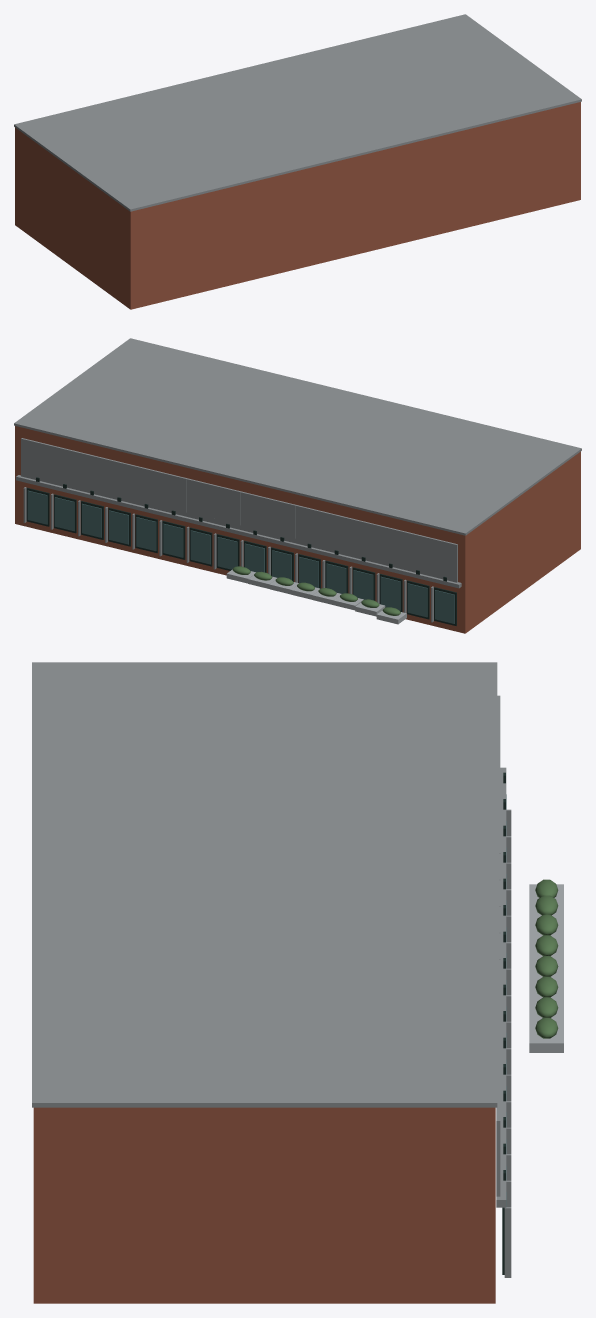
File: gerlinger-annex-joints-exterior-2026-11-10.glb
3 views of the same model, one above another, from view 1: azimuth 30°, elevation 25°; view 2: azimuth 150°, elevation 25°; view 3: azimuth 270°, elevation 25° (orthographic). The views are drawn at different scales.
Visible parts, largest first — view 1: annex-part-0; view 2: annex-part-0, annex-part-1; view 3: annex-part-0, annex-part-1.
Boxes of the visible parts, bbox=[...] form: annex-part-0: bbox=[14, 14, 581, 309]; annex-part-0: bbox=[14, 338, 581, 633]; annex-part-1: bbox=[226, 566, 406, 624]; annex-part-0: bbox=[32, 662, 511, 1303]; annex-part-1: bbox=[529, 879, 563, 1052].
Bounding box in the file's own units: 63.2 × 13.47 × 32.25.
